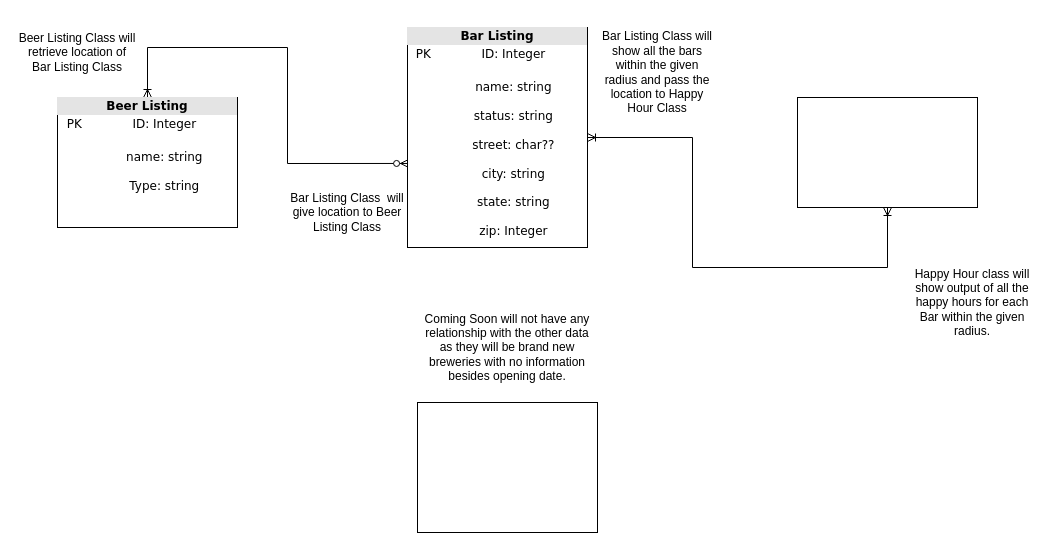
Some shapes in this 1054 by 550 pixel diagram are drawn without their labels. The centre of each missing label's shape, as x and y in pixels:
Coming Soon PK ID: Integer date: integer projected date: integer: the point at 507,467
Happy Hour PK ID: Integer name: string time: integer: the point at 887,152
